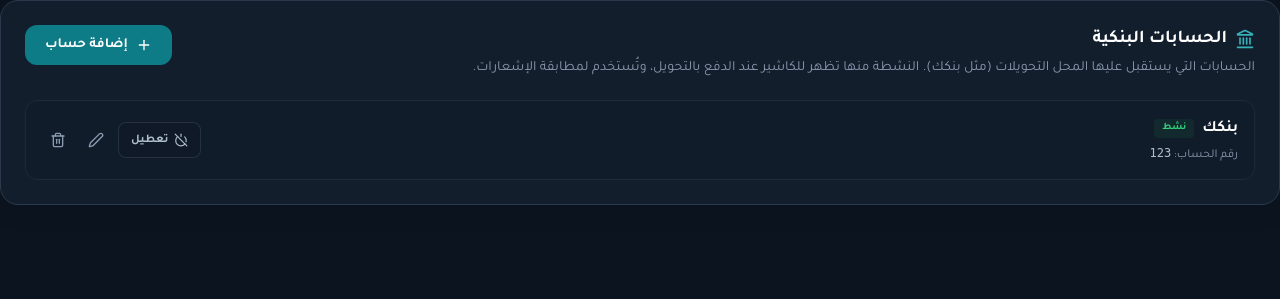
أقسام الإعدادات › الحسابات البنكية: تعرض رسالة الخادم عند رفض الحذف وتعطّل الحساب
Expected: the text "بنكك" is shown, [1202, 117, 1238, 141]
Click the button named "حذف الحساب بنكك": (58, 140) [42, 124, 74, 156]
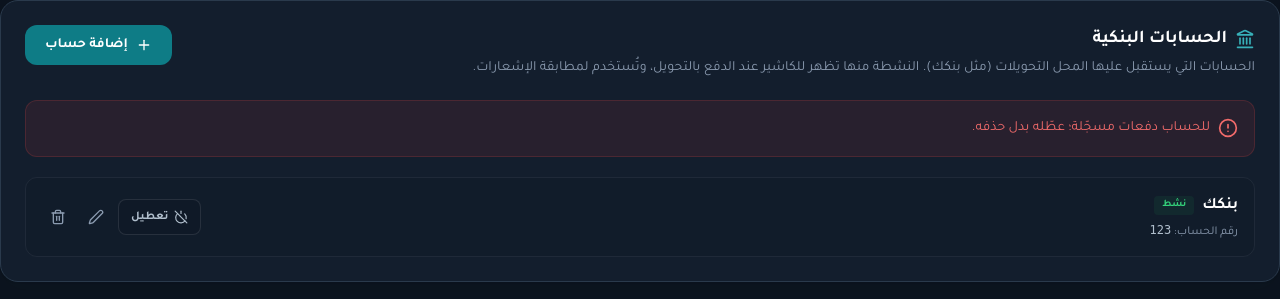
Now the text "للحساب دفعات مسجّلة؛ عطّله بدل حذفه." is shown, box [972, 117, 1210, 140]
Click the button "تعطيل": (160, 216) [118, 198, 201, 234]
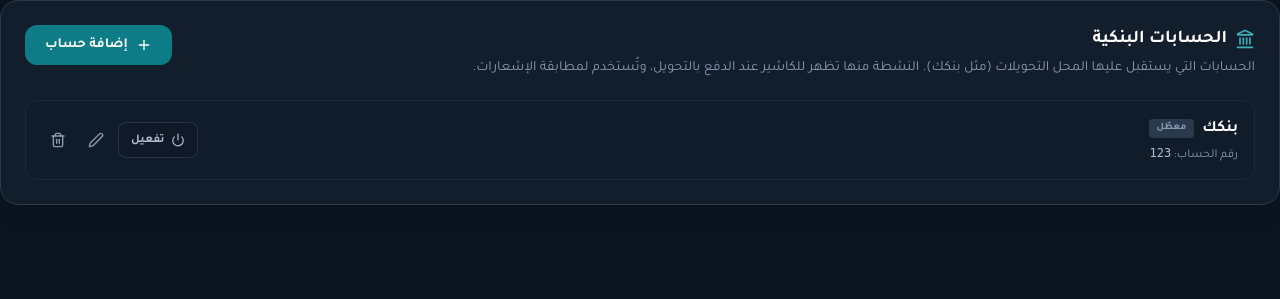
Now the text "معطّل" is shown, box [1149, 119, 1194, 138]
